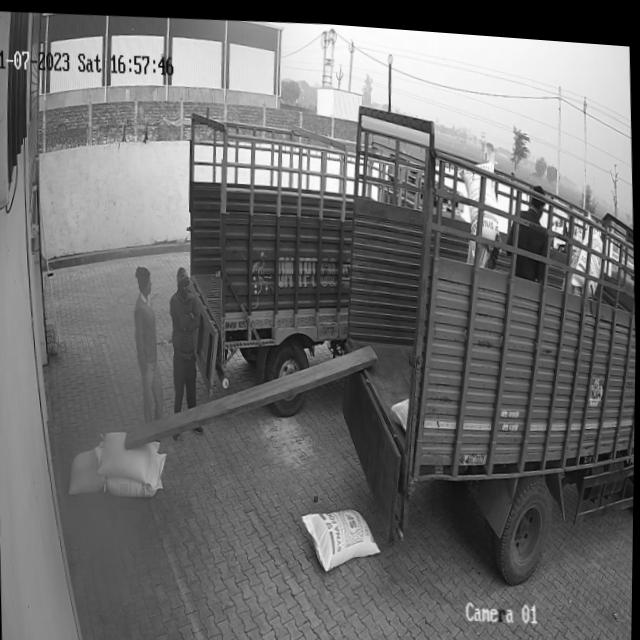sack: (303, 498, 382, 569), (97, 425, 161, 485), (104, 445, 169, 496), (66, 442, 109, 496)
